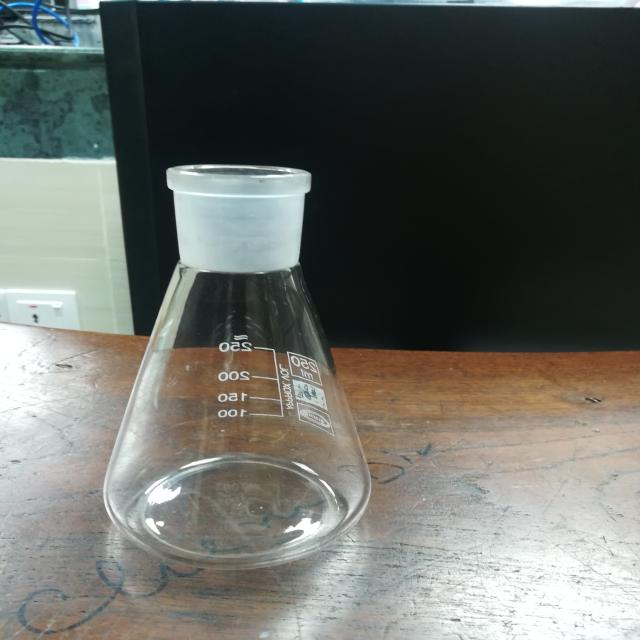Conical_Flask: (48, 124, 436, 590)
